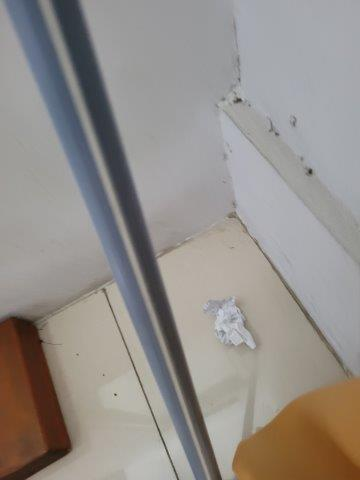kertas: (205, 296, 260, 354)
